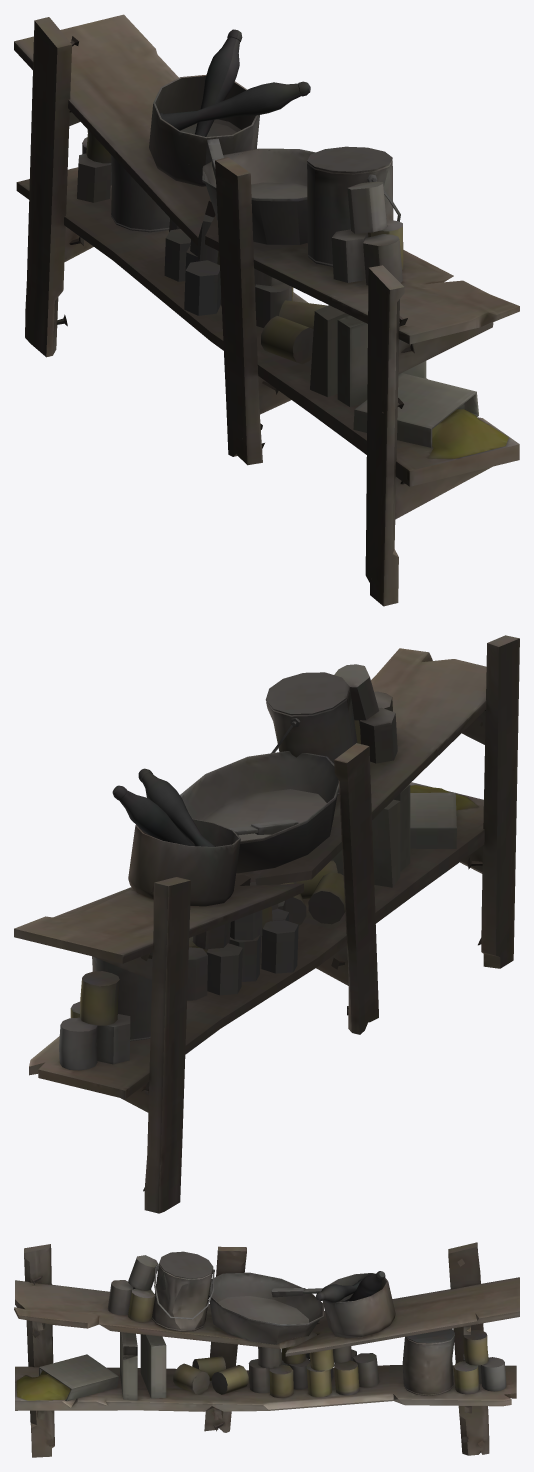
3 renders of one model, top to bottom at view 1: azimuth 30°, elevation 25°; view 2: azimuth 150°, elevation 25°; view 3: azimuth 270°, elevation 25°, orthographic. The views are drawn at different scales.
Parts seen in each view (by area): view 1: body0_model0_lod0_mesh0; view 2: body0_model0_lod0_mesh0; view 3: body0_model0_lod0_mesh0.
Boxes of the visible parts, x1,y1,x2,y2 form: body0_model0_lod0_mesh0: (14, 14, 519, 606); body0_model0_lod0_mesh0: (14, 635, 519, 1213); body0_model0_lod0_mesh0: (14, 1242, 519, 1457).
Size of the model in its own units: 22.5 by 48.37 by 100.
1 material, 1 textured.
